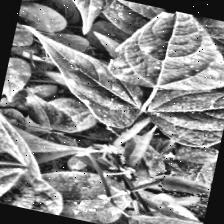Bean Rust: (0, 21, 157, 134), (104, 0, 224, 112), (140, 75, 224, 153), (26, 164, 134, 224), (17, 0, 123, 41)
